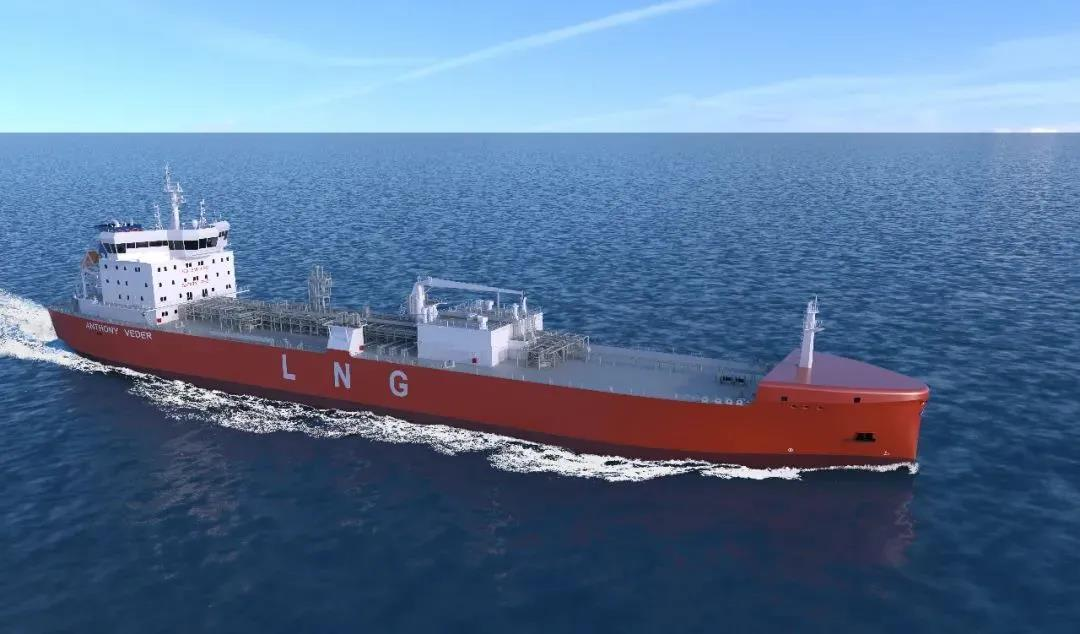Cargoship: (46, 174, 933, 471)
